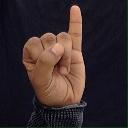hand: (21, 4, 86, 107)
